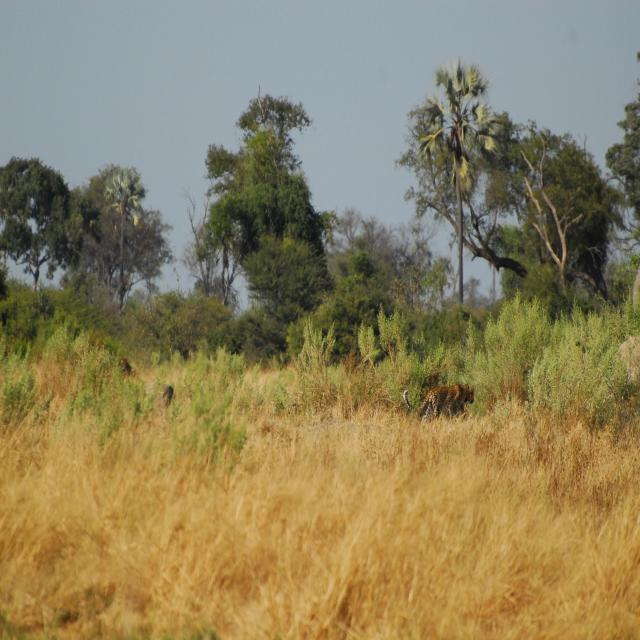Leopard: (402, 374, 476, 426)
